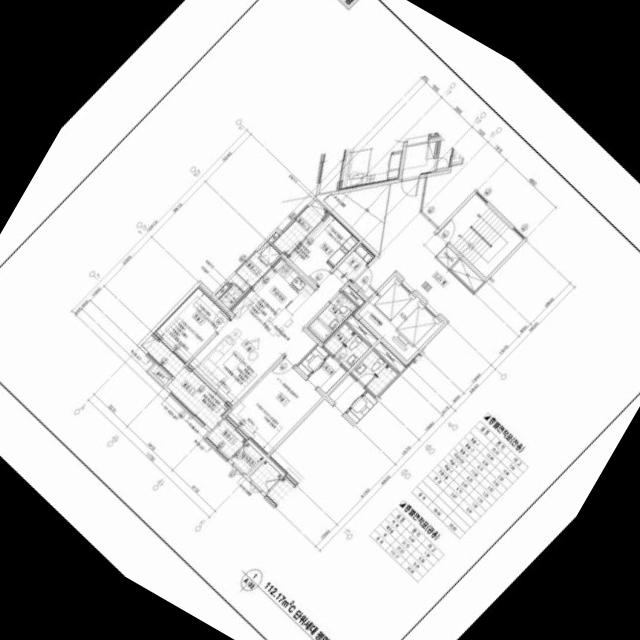background: (0, 0, 640, 640)
space_balconi: (141, 335, 246, 458), (219, 241, 280, 308), (273, 199, 328, 254)
space_bedroom: (227, 358, 322, 455), (155, 285, 230, 361), (288, 214, 359, 285)
space_dressroom: (297, 345, 346, 393)
space_elevator: (357, 275, 419, 337), (382, 299, 443, 361)
space_elevator_hall: (353, 177, 473, 321)
space_front: (332, 246, 372, 284)
space_kitchen: (231, 259, 315, 343)
space_living_room: (189, 272, 344, 405)
space_other: (323, 184, 390, 254), (230, 442, 263, 475), (450, 259, 483, 291), (346, 314, 378, 346), (436, 246, 459, 268), (342, 285, 364, 307)
space_staircase: (438, 194, 522, 277)
space_toilet: (307, 292, 356, 342), (323, 323, 369, 369)
